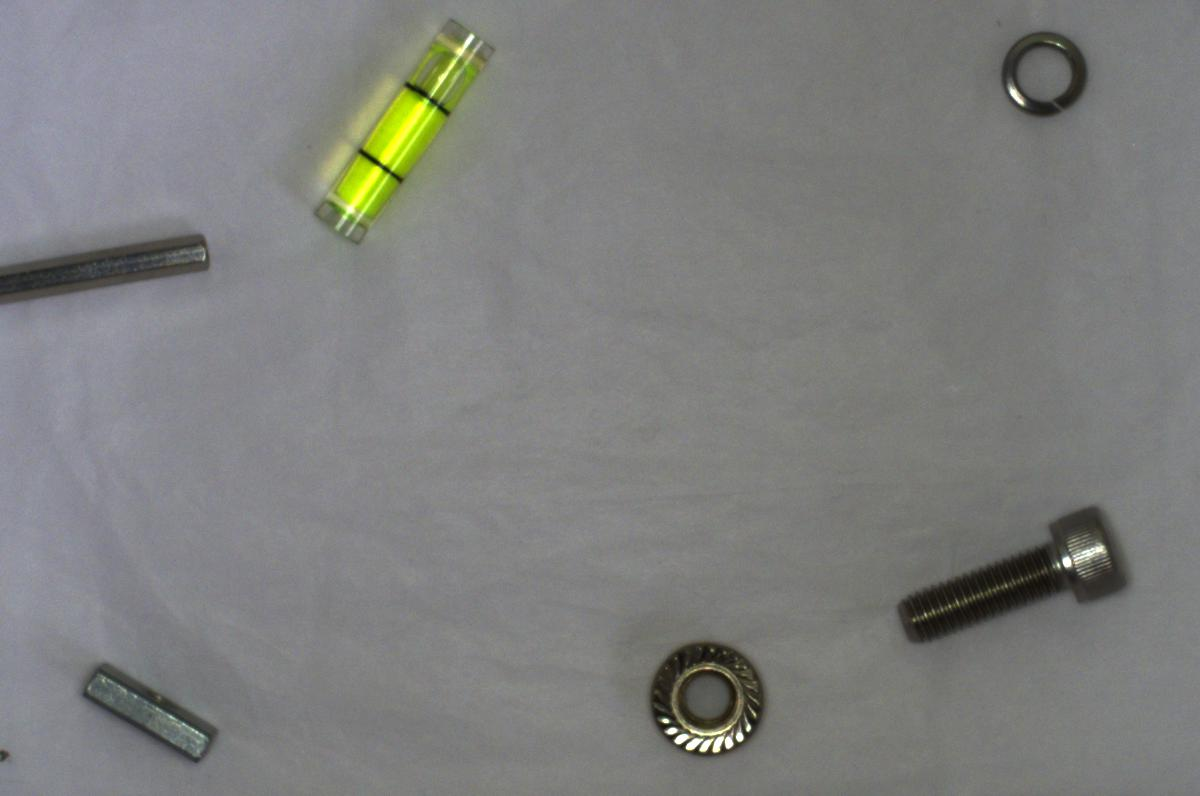Double hexagonal column: (2, 223, 215, 315)
Flange nut: (627, 632, 771, 758)
Hexagon screw: (878, 495, 1130, 639)
Horizontal bubble: (306, 14, 495, 248)
Rectangular nut: (77, 655, 231, 773)
Spring washer: (992, 21, 1099, 126)
